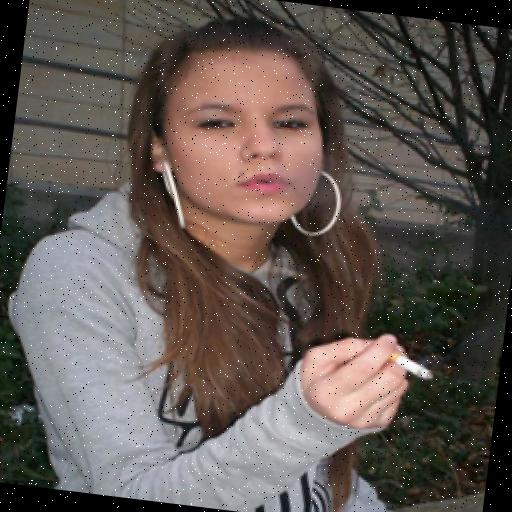terdeteksi pegang rokok: (316, 284, 448, 458)
